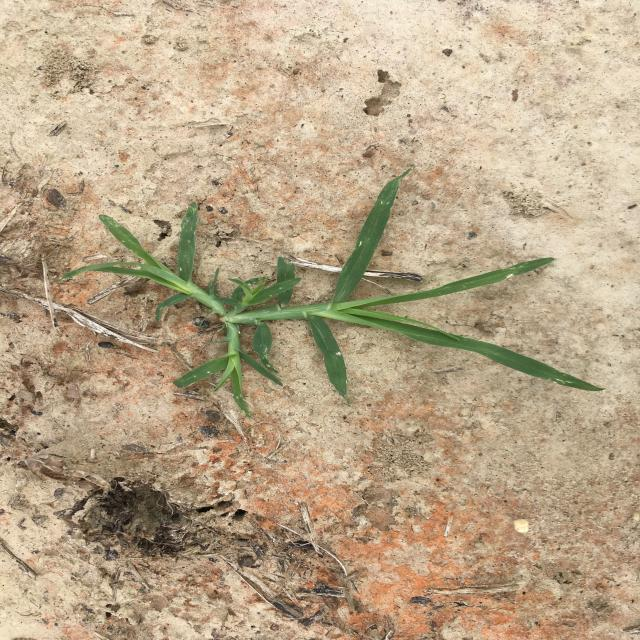Goosegrass: (59, 168, 604, 416)
